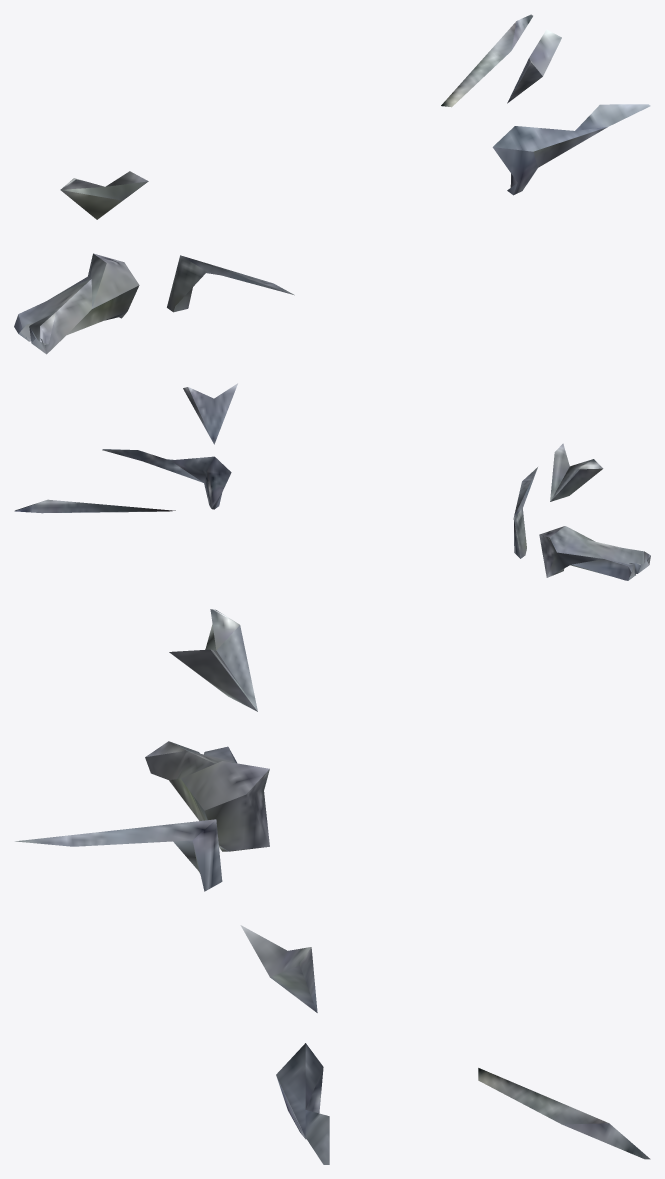
3 views of the same model, one above another, from view 1: azimuth 30°, elevation 25°; view 2: azimuth 150°, elevation 25°; view 3: azimuth 270°, elevation 25° (orthographic). The views are drawn at different scales.
Parts seen in each view (by area): view 1: 30436272704361615604_0; view 2: 30436272704361615604_0; view 3: 30436272704361615604_0.
Part boxes in pixels (bbox=[...]): 30436272704361615604_0: bbox=[14, 14, 650, 354]; 30436272704361615604_0: bbox=[14, 383, 650, 580]; 30436272704361615604_0: bbox=[15, 609, 650, 1164].
Bounding box in the file's own units: 27.31 × 6.01 × 16.51.
Materials: 1 (1 with a texture image).
